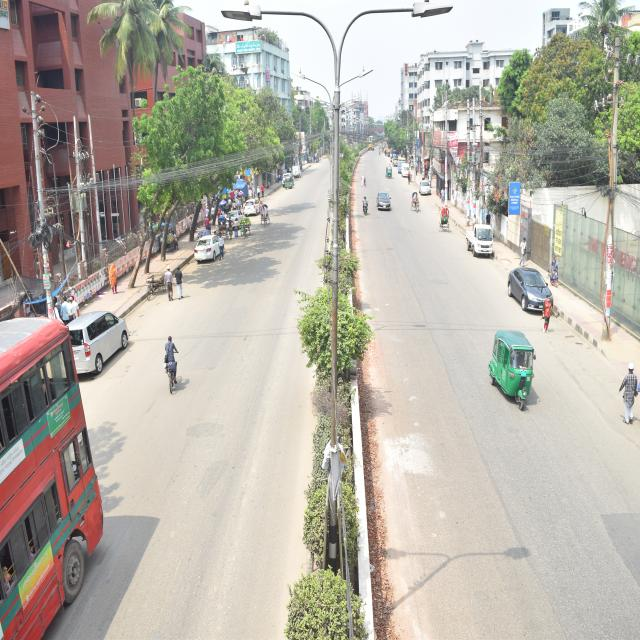bus: (0, 283, 134, 640)
car: (51, 292, 173, 411), (501, 253, 567, 333), (180, 224, 229, 273), (231, 186, 273, 223), (374, 184, 398, 227), (274, 164, 298, 198), (416, 177, 439, 205), (398, 159, 413, 180)
motorbike: (354, 185, 374, 224)
pickup-van: (465, 214, 499, 271), (284, 156, 302, 184)
